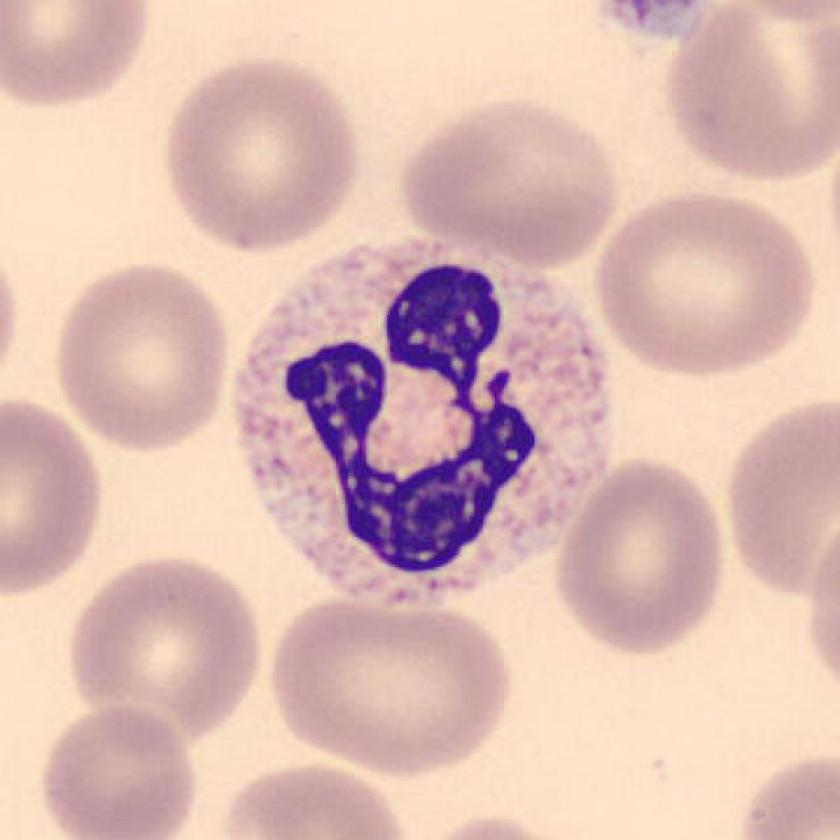neutrophil: (235, 242, 611, 608)
